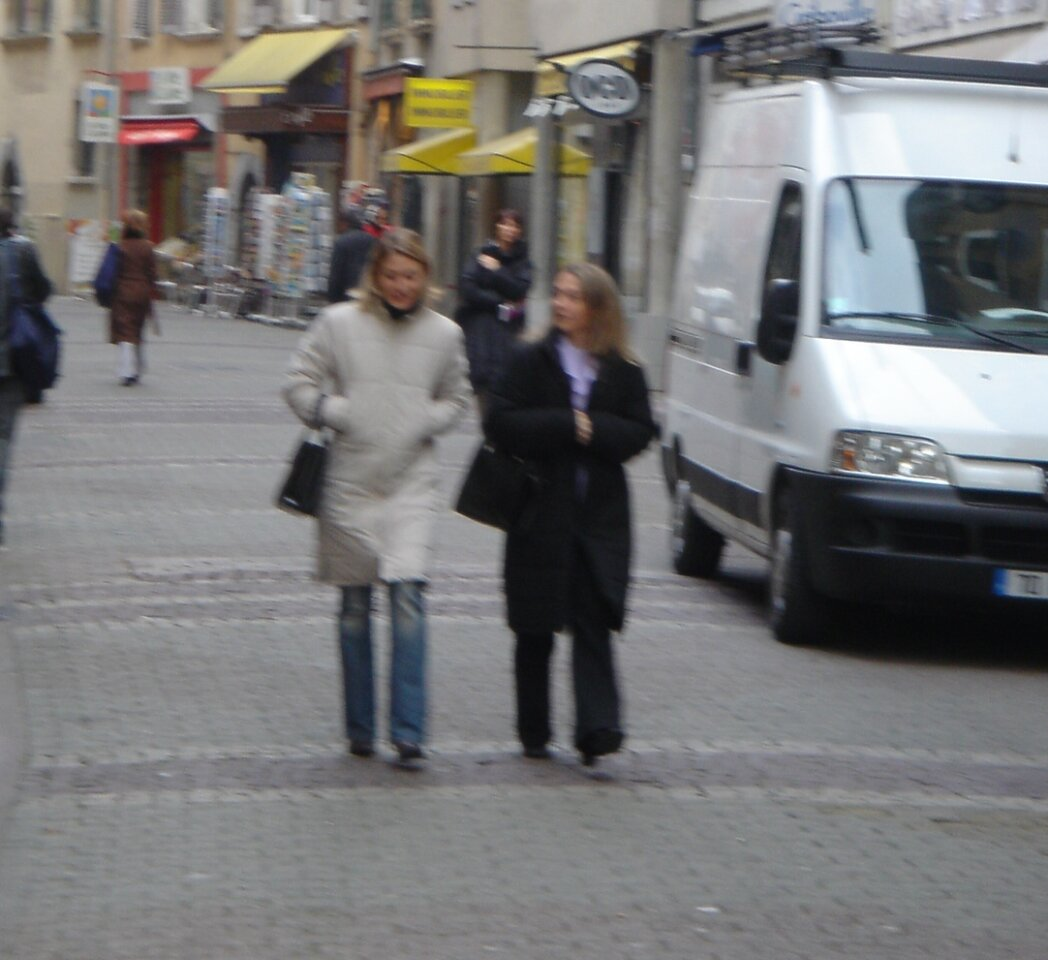person: (471, 249, 663, 772), (289, 217, 465, 766)
